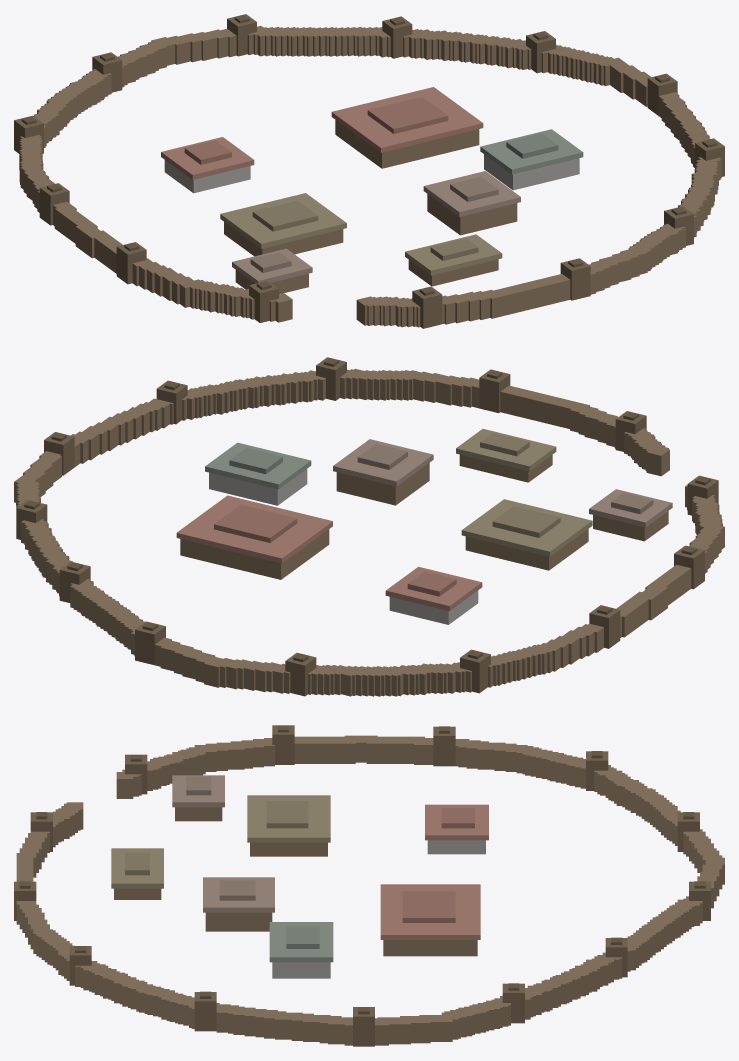
File: ciudad_aldea_maderera_2174_3062_01.glb
3 renders of one model, top to bottom at view 1: azimuth 30°, elevation 25°; view 2: azimuth 150°, elevation 25°; view 3: azimuth 270°, elevation 25°, orthographic. The views are drawn at different scales.
Visible parts, largest first — view 1: ciudad_aldea_maderera_2174_3062; view 2: ciudad_aldea_maderera_2174_3062; view 3: ciudad_aldea_maderera_2174_3062.
Part boxes in pixels (x1,y1,x2,y2): ciudad_aldea_maderera_2174_3062: (14,14,724,328); ciudad_aldea_maderera_2174_3062: (14,357,724,696); ciudad_aldea_maderera_2174_3062: (14,725,724,1046).
Bounding box in the file's own units: 62 × 3.25 × 64.
